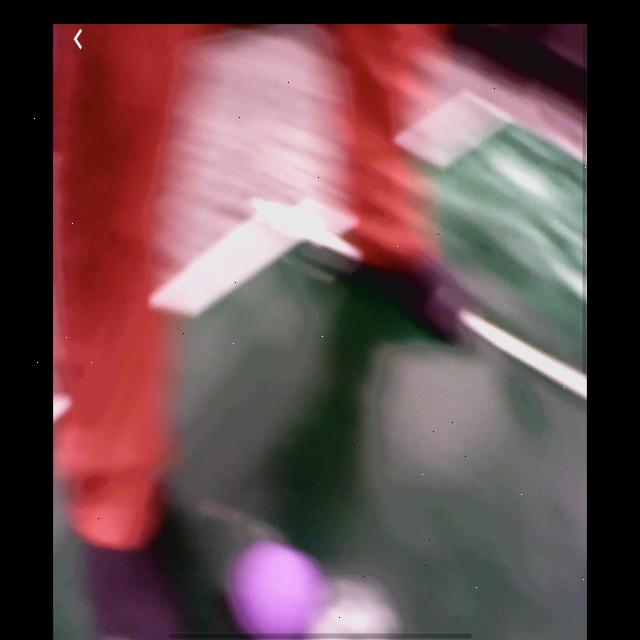ball: (226, 541, 322, 631)
